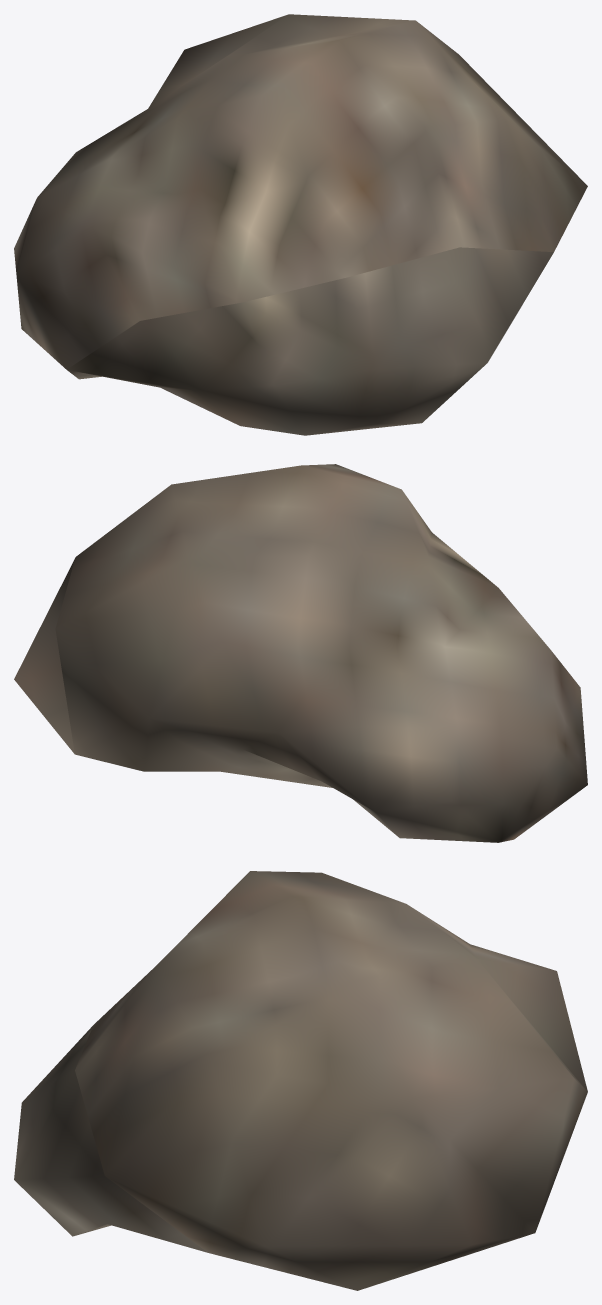
File: rock_Small_002.fbx
The picture shows the model from 3 angles, top to bottom: view 1: azimuth 30°, elevation 25°; view 2: azimuth 150°, elevation 25°; view 3: azimuth 270°, elevation 25°; orthographic projection. The views are drawn at different scales.
Parts seen in each view (by area): view 1: rock_Small.002; view 2: rock_Small.002; view 3: rock_Small.002.
Boxes of the visible parts, box(x1,y1,x2,y2) form: rock_Small.002: box(14, 14, 587, 435); rock_Small.002: box(14, 464, 587, 842); rock_Small.002: box(14, 871, 587, 1290).
Size of the model in its own units: 129 by 73.39 by 108.
1 material, 1 textured.
